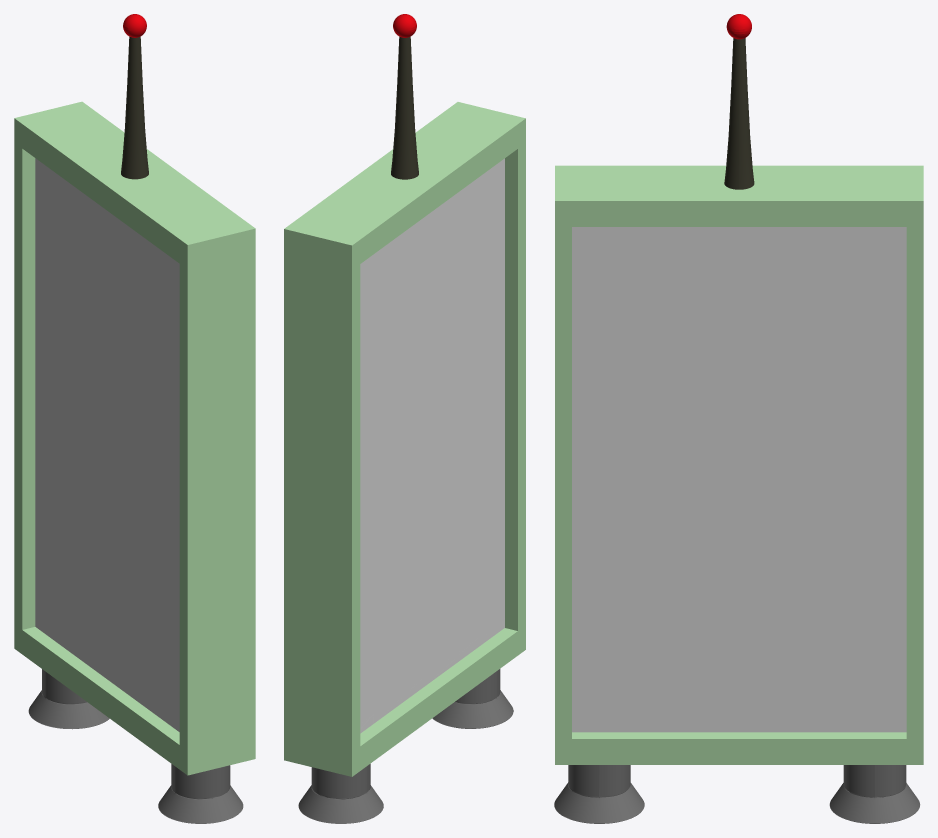
The model's file is addwall2.fbx.
3 renders of one model, left to right at view 1: azimuth 30°, elevation 25°; view 2: azimuth 150°, elevation 25°; view 3: azimuth 270°, elevation 25°, orthographic. The views are drawn at different scales.
Parts seen in each view (by area): view 1: Cube.001; view 2: Cube.001; view 3: Cube.001.
Boxes of the visible parts, left/top/right/bottom form: Cube.001: left=14, top=14, right=255, bottom=823; Cube.001: left=284, top=14, right=525, bottom=823; Cube.001: left=554, top=14, right=923, bottom=823.
Bounding box in the file's own units: 49.1 × 472 × 200.
